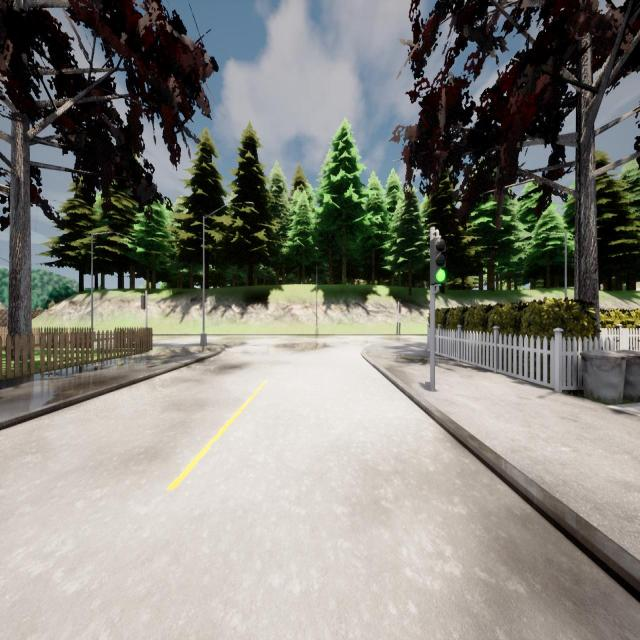traffic_light: (430, 237, 446, 285), (141, 295, 145, 310), (399, 304, 402, 314)
